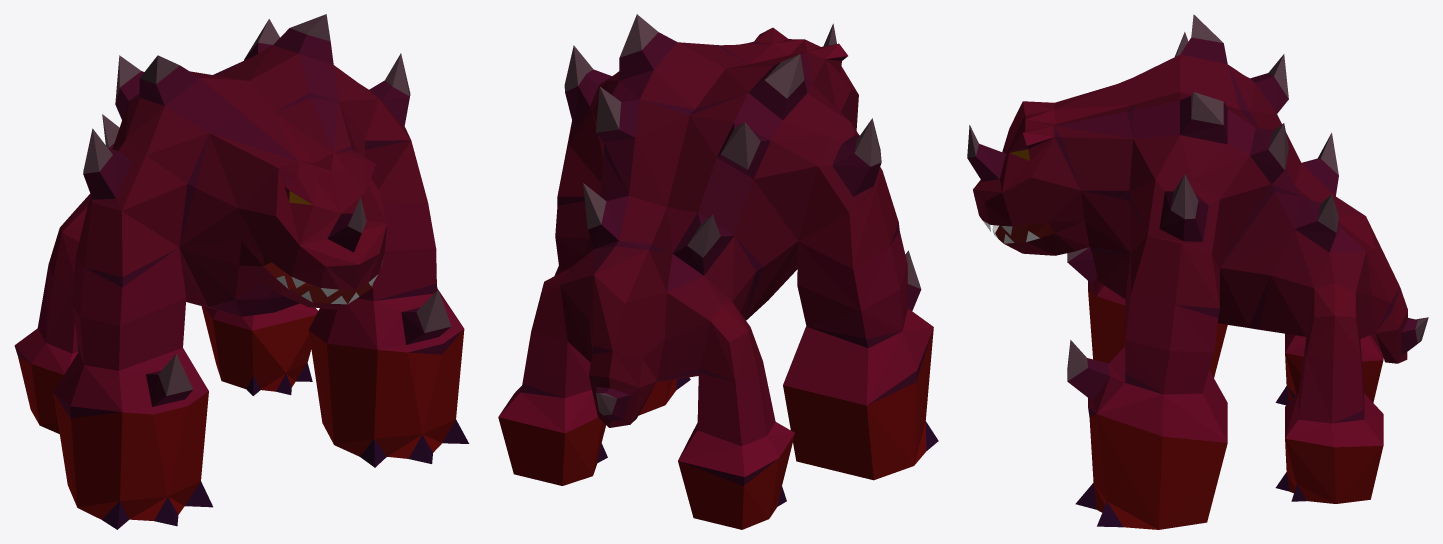
The model's file is jad.glb.
3 views of the same model, side by side, from view 1: azimuth 30°, elevation 25°; view 2: azimuth 150°, elevation 25°; view 3: azimuth 270°, elevation 25° (orthographic). The views are drawn at different scales.
Parts seen in each view (by area): view 1: runescapemodel; view 2: runescapemodel; view 3: runescapemodel.
Part boxes in pixels (left/top/right/bottom): runescapemodel: left=14, top=14, right=469, bottom=529; runescapemodel: left=498, top=14, right=938, bottom=529; runescapemodel: left=967, top=14, right=1428, bottom=529.
Size of the model in its own units: 127 by 134 by 142.
